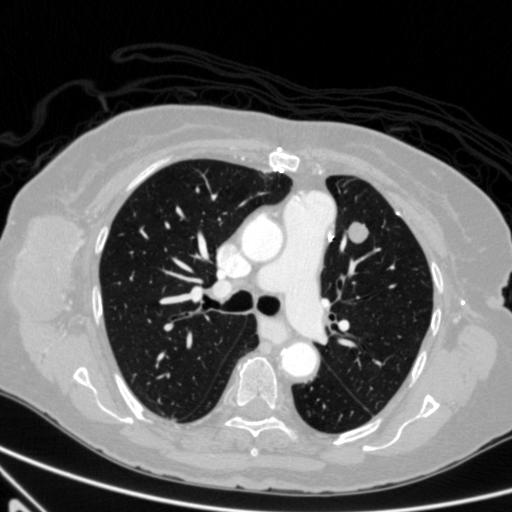nodule: (345, 221, 370, 246)
